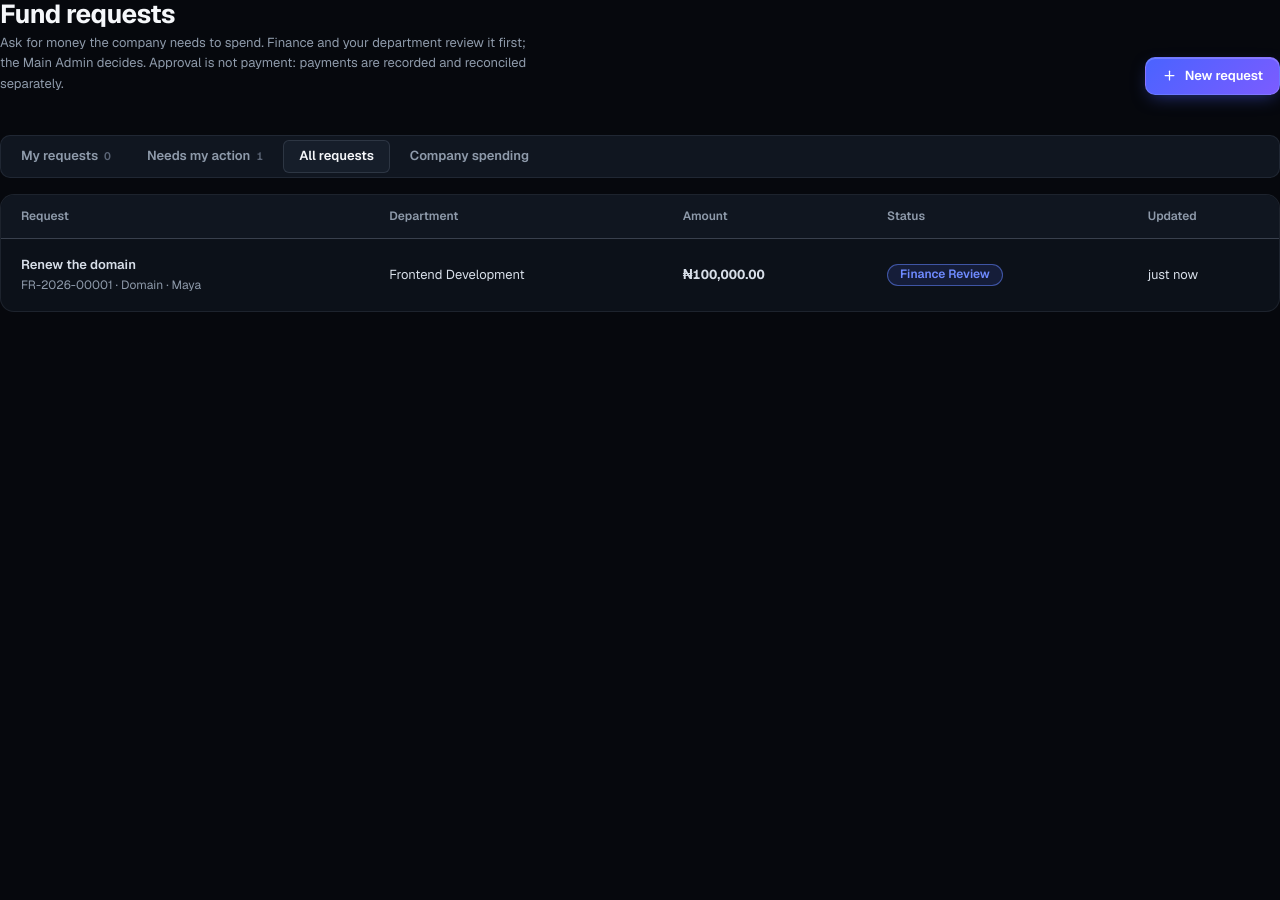
Scenario: Fund request detail: budget, refunds and receipts › says so when no budget covers the request
Click the text "Renew the domain" at (78, 264), box [21, 256, 136, 273]
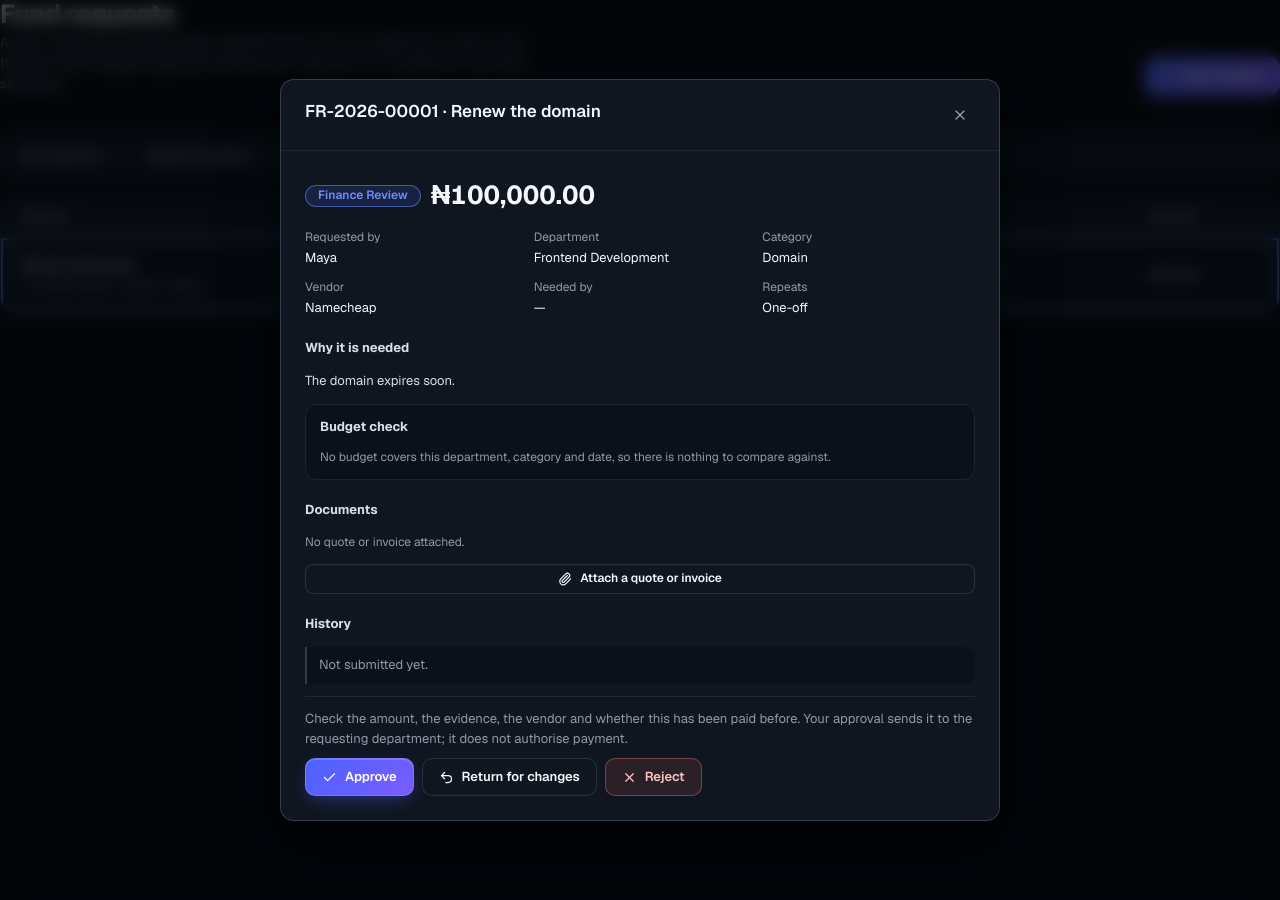
Expected: the text "No budget covers this department" is shown, [320, 449, 831, 465]
